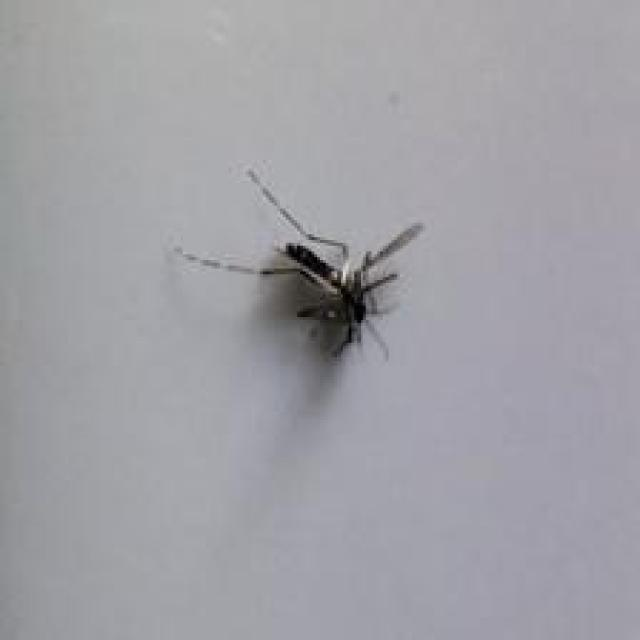Aedes albopictus: (171, 164, 426, 364)
